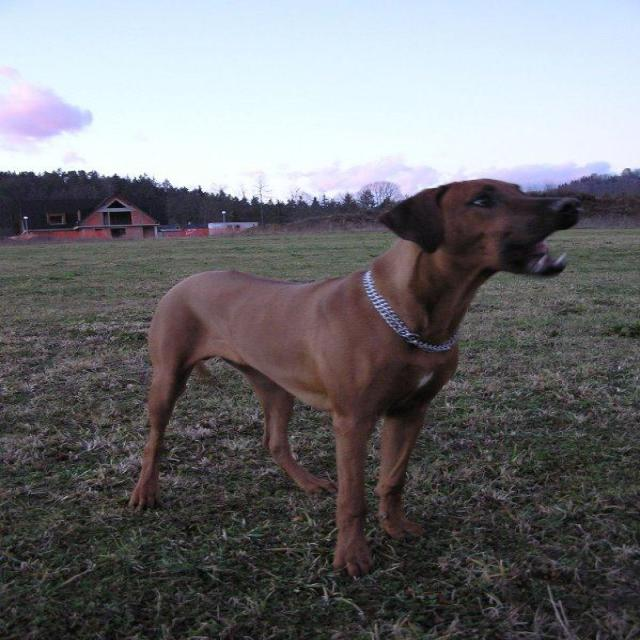rhodesian_ridgeback: (122, 178, 579, 578)
